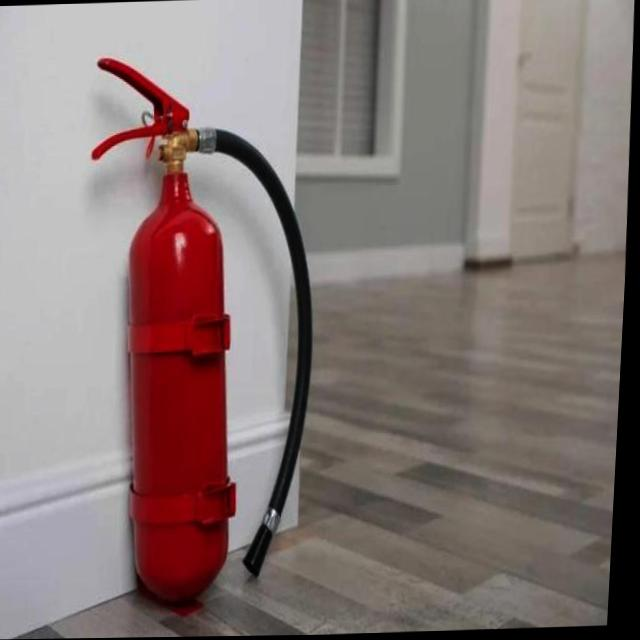FireExtinguisher: (65, 42, 335, 616)
